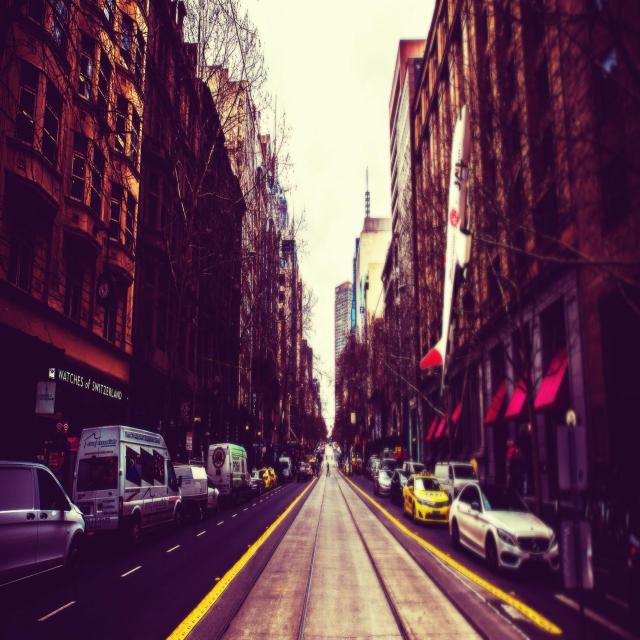airplane: (419, 102, 473, 396)
